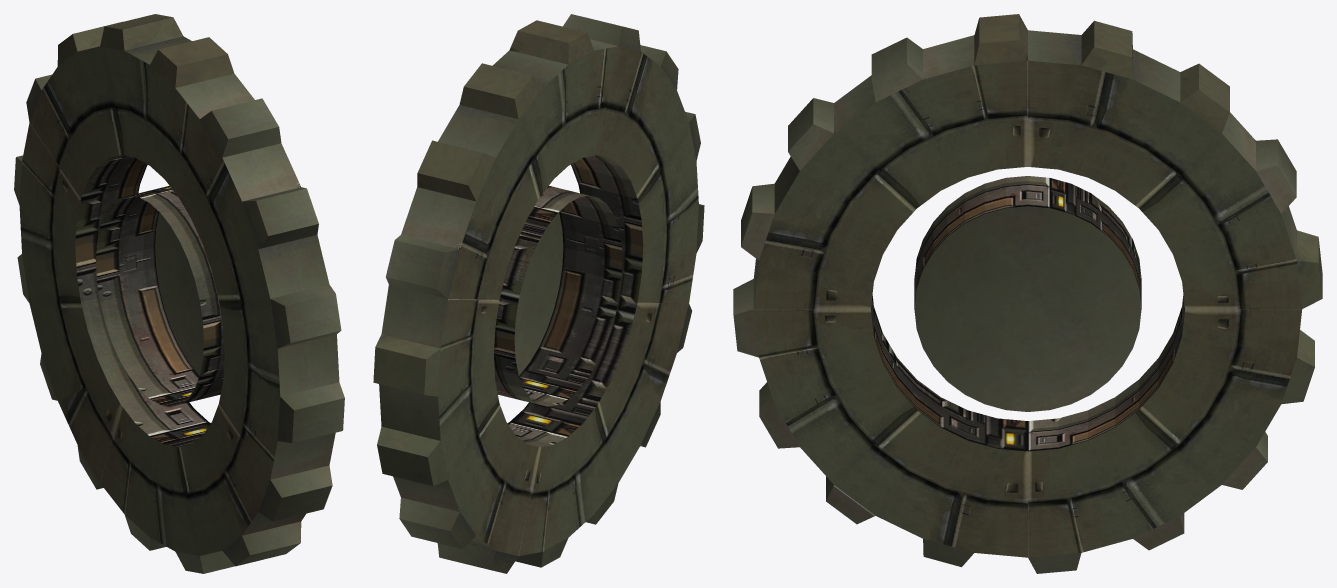
Rendered from L_Gear.glb.
The picture shows the model from 3 angles, left to right: view 1: azimuth 30°, elevation 25°; view 2: azimuth 150°, elevation 25°; view 3: azimuth 270°, elevation 25°; orthographic projection. The views are drawn at different scales.
Parts seen in each view (by area): view 1: Circle; view 2: Circle; view 3: Circle.
Boxes of the visible parts, <box> form: Circle: <box>14,14,344,573</box>; Circle: <box>373,14,704,573</box>; Circle: <box>733,14,1322,573</box>.
Bounding box in the file's own units: 1.62 × 13.3 × 13.3.
Materials: 1 (1 with a texture image).
